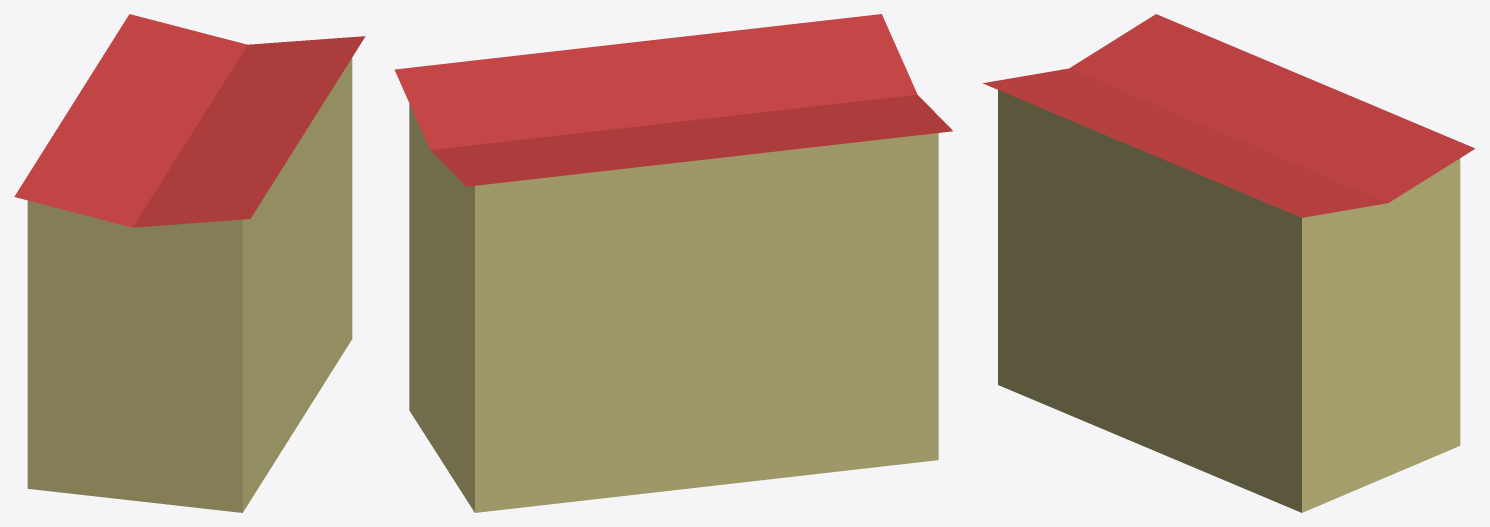
3 renders of one model, left to right at view 1: azimuth 30°, elevation 25°; view 2: azimuth 150°, elevation 25°; view 3: azimuth 270°, elevation 25°, orthographic. The views are drawn at different scales.
Bounding box in the file's own units: 22.52 × 22.54 × 15.21.
